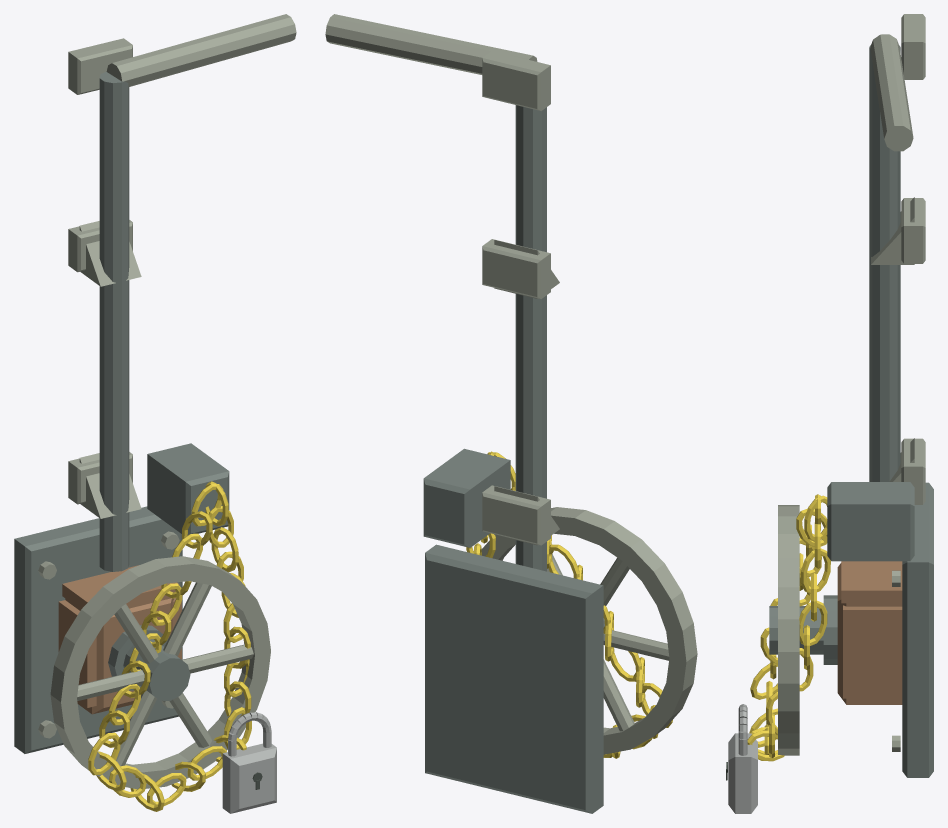
File: GateControl.fbx
The picture shows the model from 3 angles, left to right: view 1: azimuth 30°, elevation 25°; view 2: azimuth 150°, elevation 25°; view 3: azimuth 270°, elevation 25°; orthographic projection. The views are drawn at different scales.
Visible parts, largest first — view 1: DriveRiser__Steel, MountingPlate__Steel, WheelRim__WornSteel, YellowChain__SafetyYellow, RiserBrackets__WornSteel, WheelSpokes__WornSteel, GateDriveLink__WornSteel, FixedChainLug__Steel, Gearbox__Rust, PadlockBody__LockSteel, WheelHub__Steel, MountBolts__WornSteel (+1 smaller); view 2: MountingPlate__Steel, DriveRiser__Steel, RiserBrackets__WornSteel, WheelRim__WornSteel, FixedChainLug__Steel, GateDriveLink__WornSteel, YellowChain__SafetyYellow, WheelSpokes__WornSteel; view 3: DriveRiser__Steel, Gearbox__Rust, MountingPlate__Steel, FixedChainLug__Steel, YellowChain__SafetyYellow, WheelRim__WornSteel, RiserBrackets__WornSteel, GateDriveLink__WornSteel, PadlockBody__LockSteel, WheelHub__Steel, PadlockShackle__LockSteel.
Part boxes in pixels (x1,y1,x2,y2): DriveRiser__Steel: (99,71,129,571); MountingPlate__Steel: (14,506,182,753); WheelRim__WornSteel: (50,556,270,789); YellowChain__SafetyYellow: (88,481,251,811); RiserBrackets__WornSteel: (68,38,141,518); WheelSpokes__WornSteel: (77,582,253,766); GateDriveLink__WornSteel: (106,14,296,86); FixedChainLug__Steel: (147,443,229,535); Gearbox__Rust: (58,565,181,714); PadlockBody__LockSteel: (222,743,276,813); WheelHub__Steel: (108,625,190,700); MountBolts__WornSteel: (38,531,179,738); MountingPlate__Steel: (425,544,603,813); DriveRiser__Steel: (515,105,546,571); RiserBrackets__WornSteel: (482,51,559,545); WheelRim__WornSteel: (481,507,697,754); FixedChainLug__Steel: (423,448,510,547); GateDriveLink__WornSteel: (325,14,537,74); YellowChain__SafetyYellow: (466,451,672,758); WheelSpokes__WornSteel: (547,554,669,731); DriveRiser__Steel: (869,44,900,481); Gearbox__Rust: (837,561,902,704); MountingPlate__Steel: (902,482,933,777); FixedChainLug__Steel: (827,482,914,561); YellowChain__SafetyYellow: (747,494,830,761); WheelRim__WornSteel: (778,505,799,755); RiserBrackets__WornSteel: (871,14,925,504); GateDriveLink__WornSteel: (870,34,913,151); PadlockBody__LockSteel: (728,733,757,813); WheelHub__Steel: (769,595,837,664); PadlockShackle__LockSteel: (738,704,747,755).
Bounding box in the file's own units: 0.9827 × 2.33 × 0.594.
